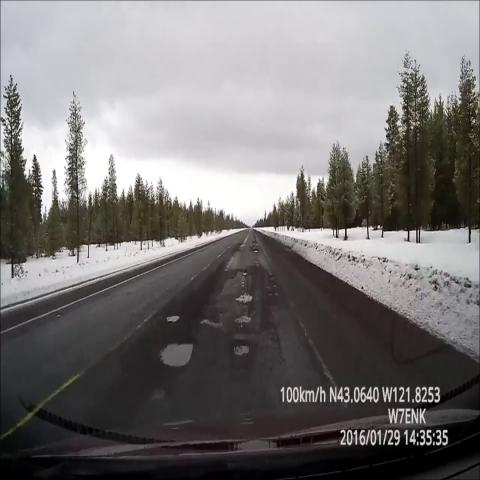pothole: (151, 331, 205, 375), (229, 330, 255, 361), (163, 302, 187, 330), (232, 305, 255, 332), (233, 285, 255, 308), (229, 237, 248, 258), (250, 233, 260, 264)
